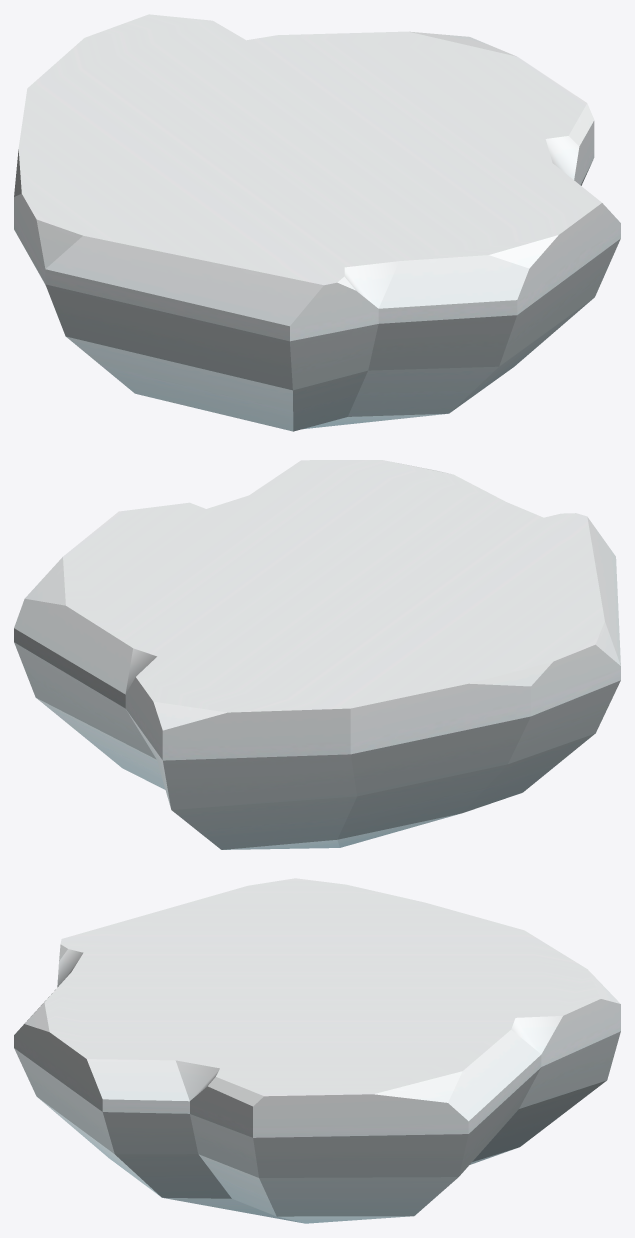
3 renders of one model, top to bottom at view 1: azimuth 30°, elevation 25°; view 2: azimuth 150°, elevation 25°; view 3: azimuth 270°, elevation 25°, orthographic. The views are drawn at different scales.
Parts seen in each view (by area): view 1: IceFloeLow; view 2: IceFloeLow; view 3: IceFloeLow.
Part boxes in pixels (x1,y1,x2,y2): IceFloeLow: [14, 14, 620, 431]; IceFloeLow: [14, 460, 620, 849]; IceFloeLow: [14, 878, 620, 1223].
Bounding box in the file's own units: 15.04 × 7.43 × 17.38.
Materials: 1 (1 with a texture image).
